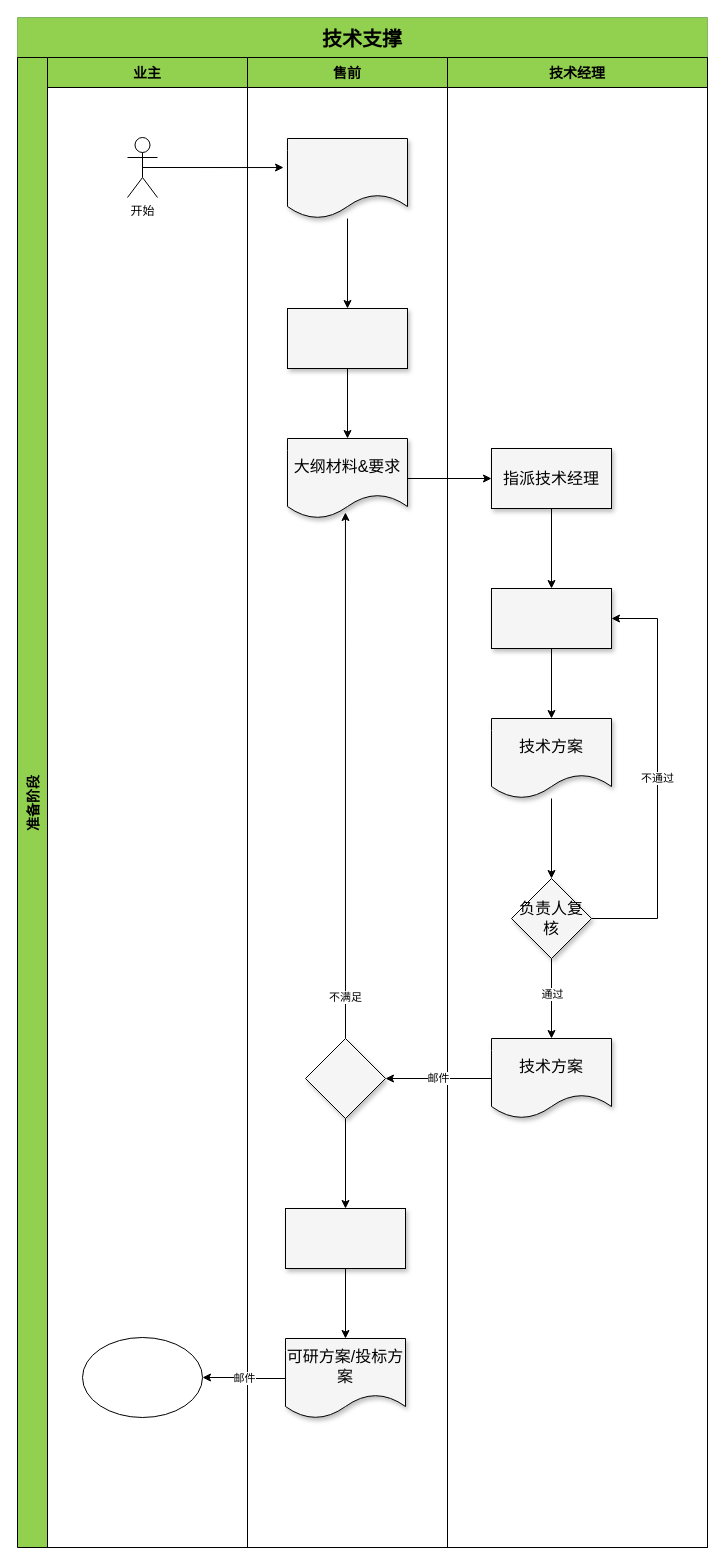
The diagram is 725 pixels wide and 1565 high, and some of its shapes have lost their labels. Each missing label, with the centre of its shape:
"整合技术方案" goes at (346,1240).
"整理材料" goes at (348,340).
"方案编写" goes at (552,620).
"是否满足" goes at (346,1080).
"相关要求材料" goes at (348,180).
"结束" goes at (142,1377).
